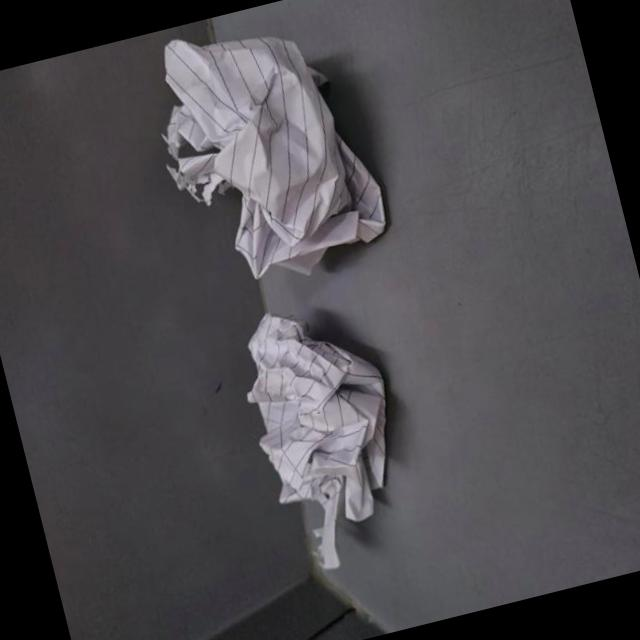cardboard paper: (162, 36, 382, 276), (245, 313, 382, 567)
